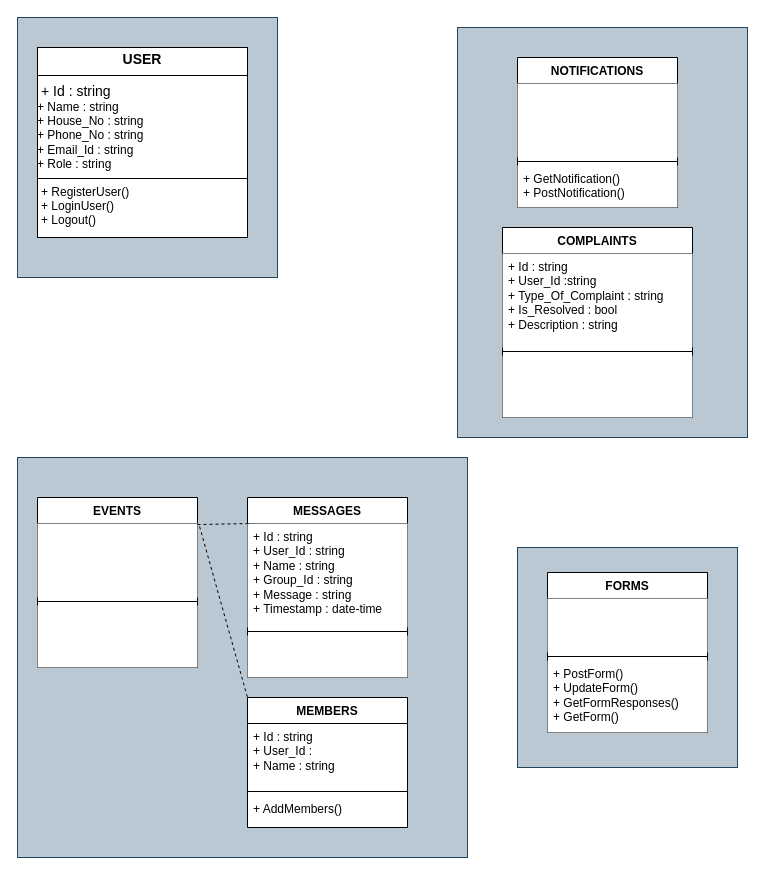
Some shapes in this 765 by 875 pixel diagram are drawn without their labels. The shapes that lost their labels are listed below. From the top down, each one's centre as x and y in pixels, then its label:
At (597,120): "+ Id : string + Notifications : string + Priority : int + Date_Time : date-time".
At (597,386): "+ PostComplaint() + GetComplaint() + GetComplaintByUserId()".
At (117,560): "+ Id : string + Event_Name : string + Event_Url : image + Description : string".
At (117,636): "+ PostEvent() + GetEvent() + UpdateEvent()".
At (627,625): "+ Id : string + Admin_Url : string + User_Url : string".
At (327,656): "+ PostMessage() + GetMessages()".
